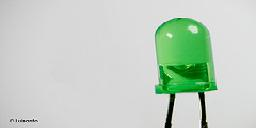LED: (150, 17, 221, 109)
